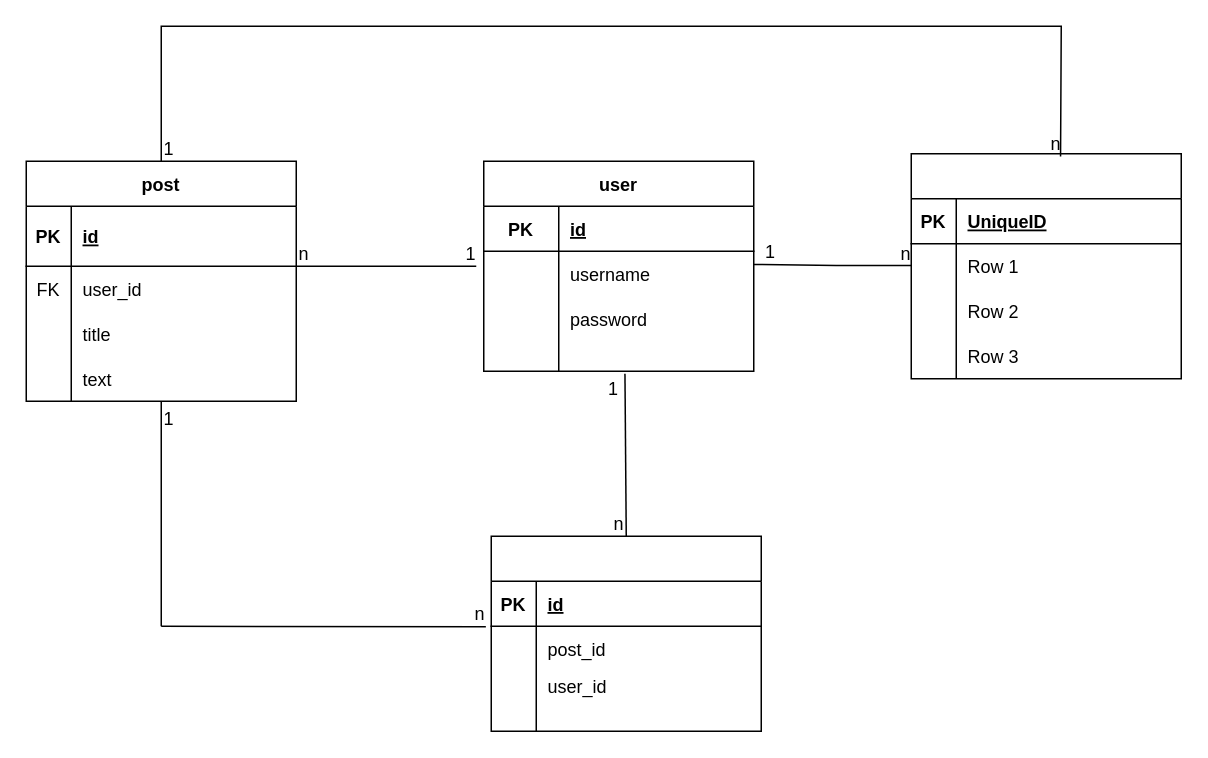
The diagram is 1208 pixels wide and 758 high, and some of its shapes have lost their labels. The shapes that lost their labels are listed below. From the top down, each one's box as (x1, y1, x2, y2) in pixels, then its label:
(910, 152, 1181, 379): comment
(490, 535, 761, 731): like
